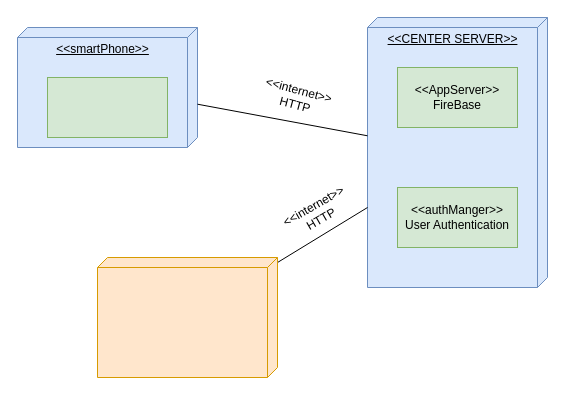
The diagram is 565 pixels wide and 395 high, and some of its shapes have lost their labels. The centre of each missing label's shape, as x and y in pixels:
<<aplication>> Excursions: (x=107, y=107)
<<Google auth>>: (x=187, y=317)
